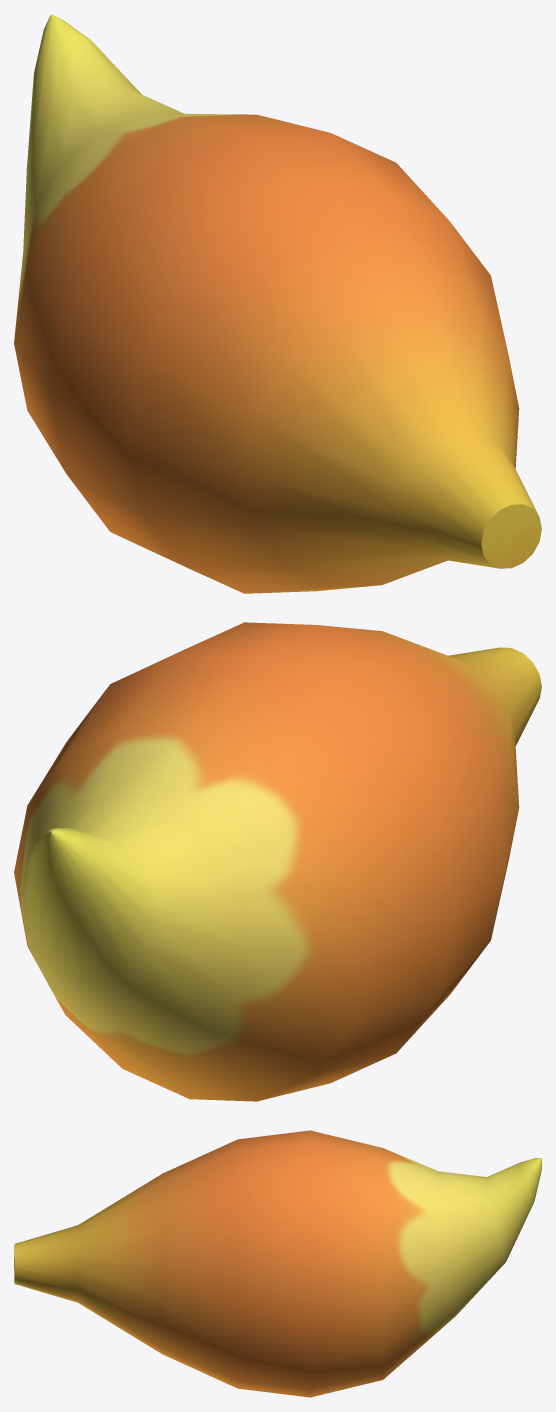
File: Fox.FBX
The picture shows the model from 3 angles, top to bottom: view 1: azimuth 30°, elevation 25°; view 2: azimuth 150°, elevation 25°; view 3: azimuth 270°, elevation 25°; orthographic projection. The views are drawn at different scales.
Visible parts, largest first — view 1: FoxTail; view 2: FoxTail; view 3: FoxTail.
Boxes of the visible parts, x1,y1,x2,y2 form: FoxTail: (14,14,541,593); FoxTail: (14,622,541,1101); FoxTail: (14,1130,541,1397).
Size of the model in its own units: 128 by 128 by 253.
